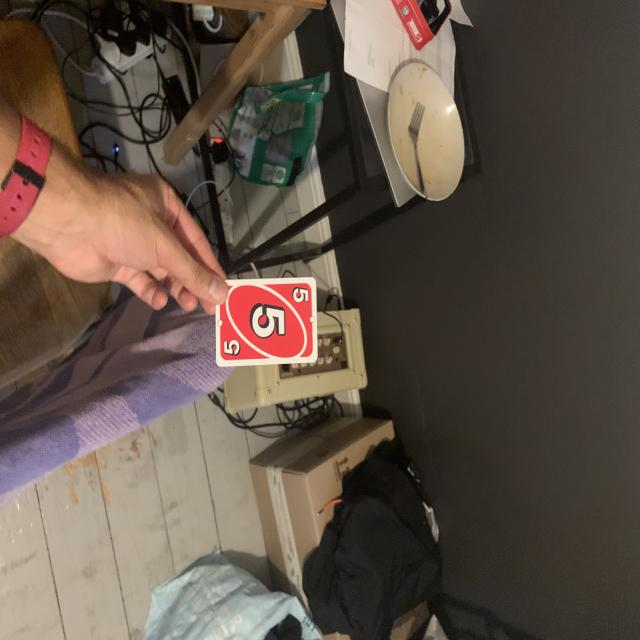lred-5: (288, 279, 312, 310)
